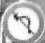Don't turn left: (3, 2, 43, 38)
